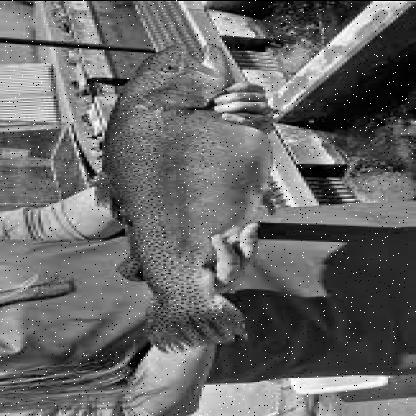fish: (93, 43, 263, 351)
